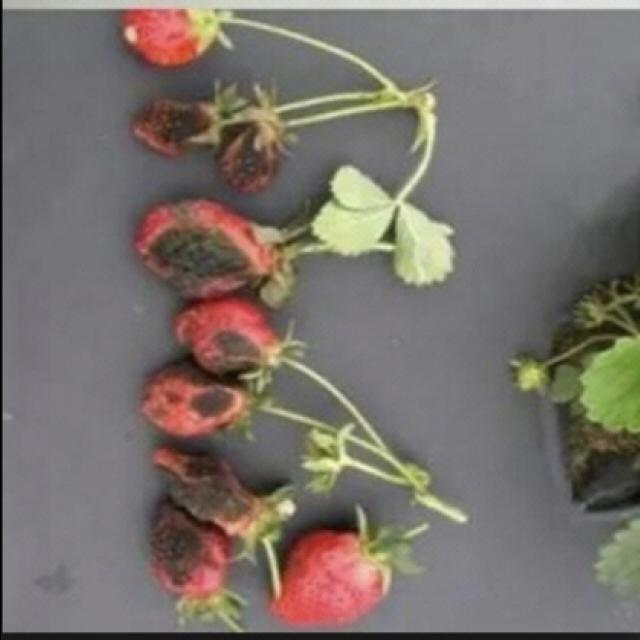Anthracnose Fruit Rot: (143, 196, 261, 294), (154, 450, 255, 533), (142, 365, 240, 439), (148, 500, 225, 591), (211, 122, 284, 196), (131, 95, 215, 157), (196, 325, 261, 372)
